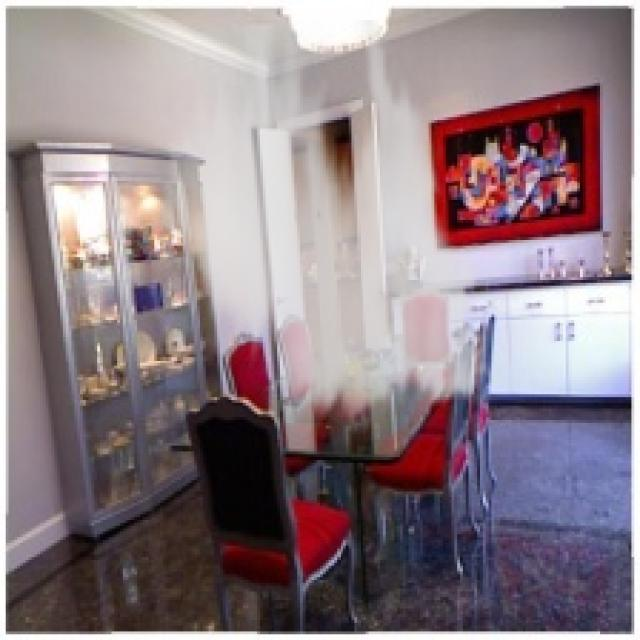smoke: (148, 20, 503, 437)
